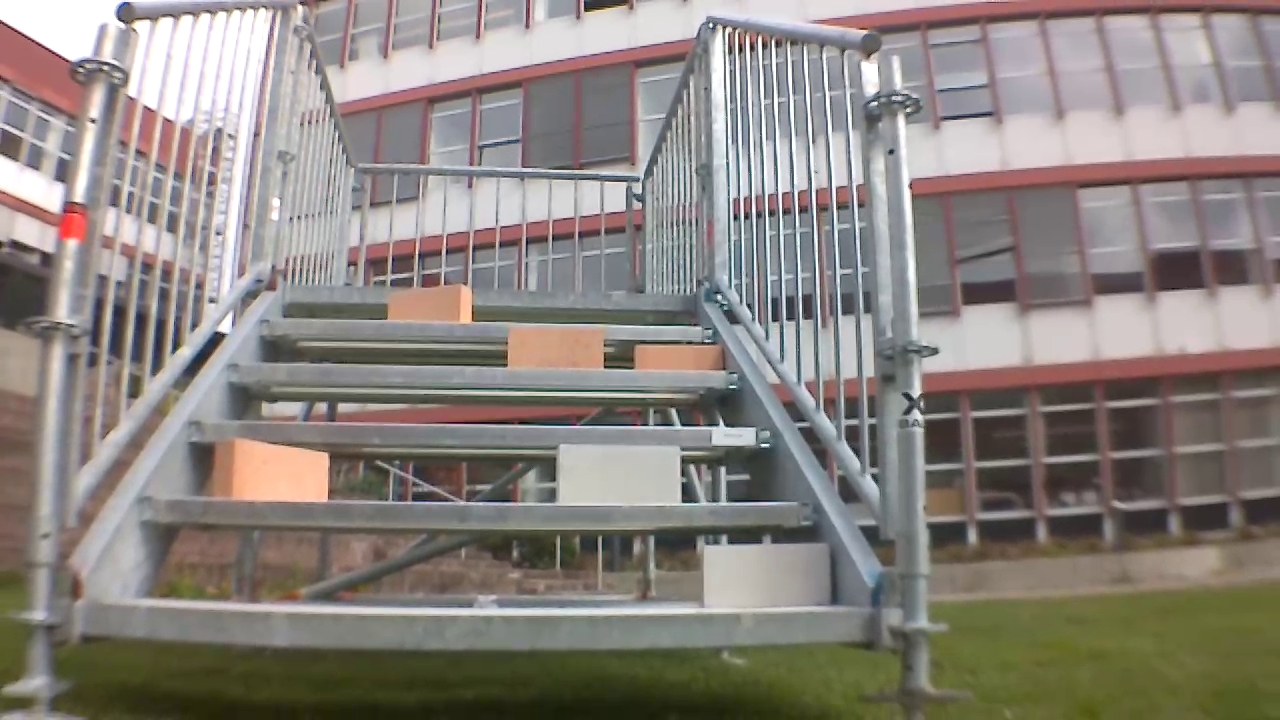brick: (704, 542, 830, 611), (557, 445, 679, 506), (212, 437, 328, 501), (507, 324, 604, 368), (389, 285, 471, 321), (635, 345, 722, 371)
edge: (80, 599, 870, 643), (139, 497, 812, 529), (184, 419, 771, 447), (229, 362, 742, 390), (260, 316, 716, 341), (286, 285, 697, 310)
stairs: (4, 5, 953, 715)
steps: (76, 278, 877, 657)
